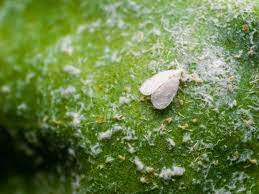whitefly: (135, 68, 184, 109)
